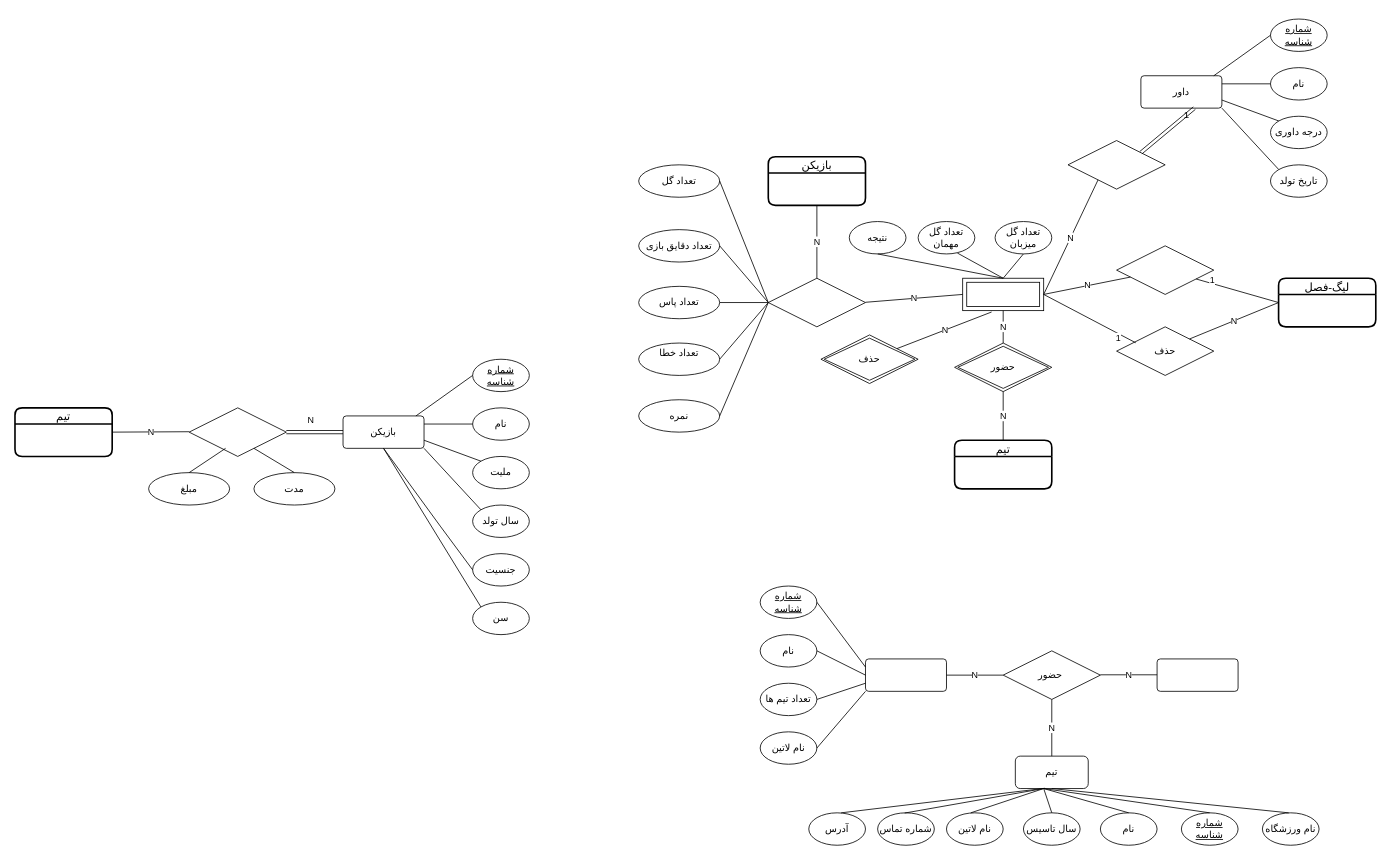
The diagram is 1390 pixels wide and 864 high, and some of its shapes have lost their labels. The centre of each missing label's shape, as x and y in pixels:
بازی: the point at 816,302
برگزار: the point at 1165,269
دارد: the point at 1116,164
فصل: the point at 1197,674
قرارداد: the point at 237,431
لیگ: the point at 905,674
مسابقه: the point at 1003,294
